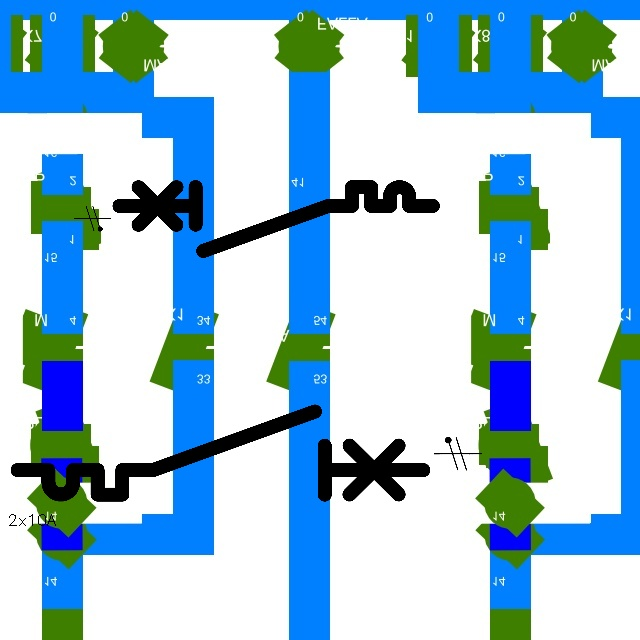interruptor_termomagnetico: (7, 401, 434, 505), (111, 179, 440, 259)
